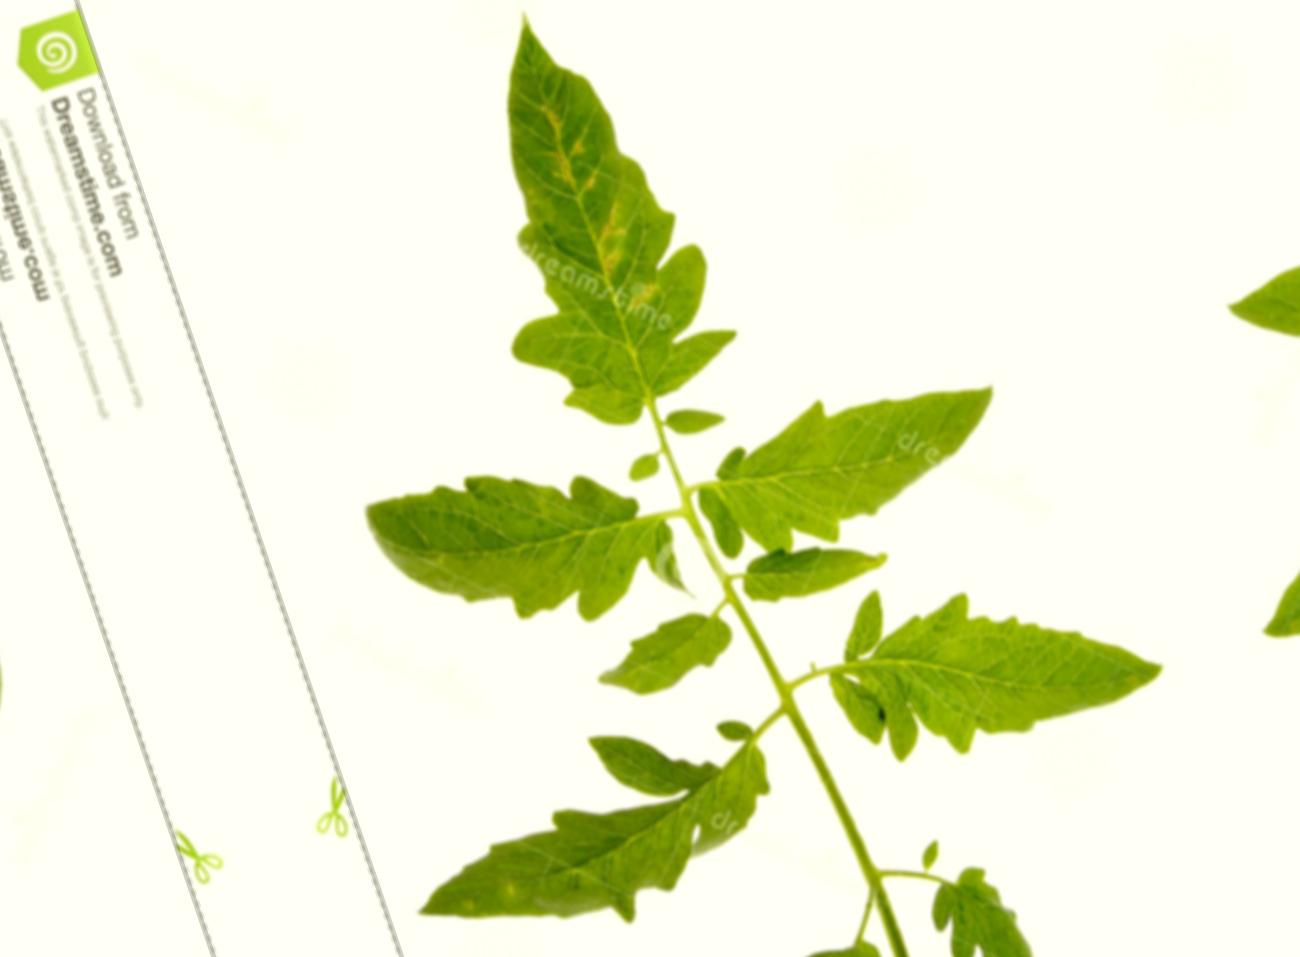Tomato leaf: (373, 0, 774, 469), (293, 363, 724, 725), (776, 482, 1202, 817), (359, 667, 830, 957), (660, 332, 1071, 598)
